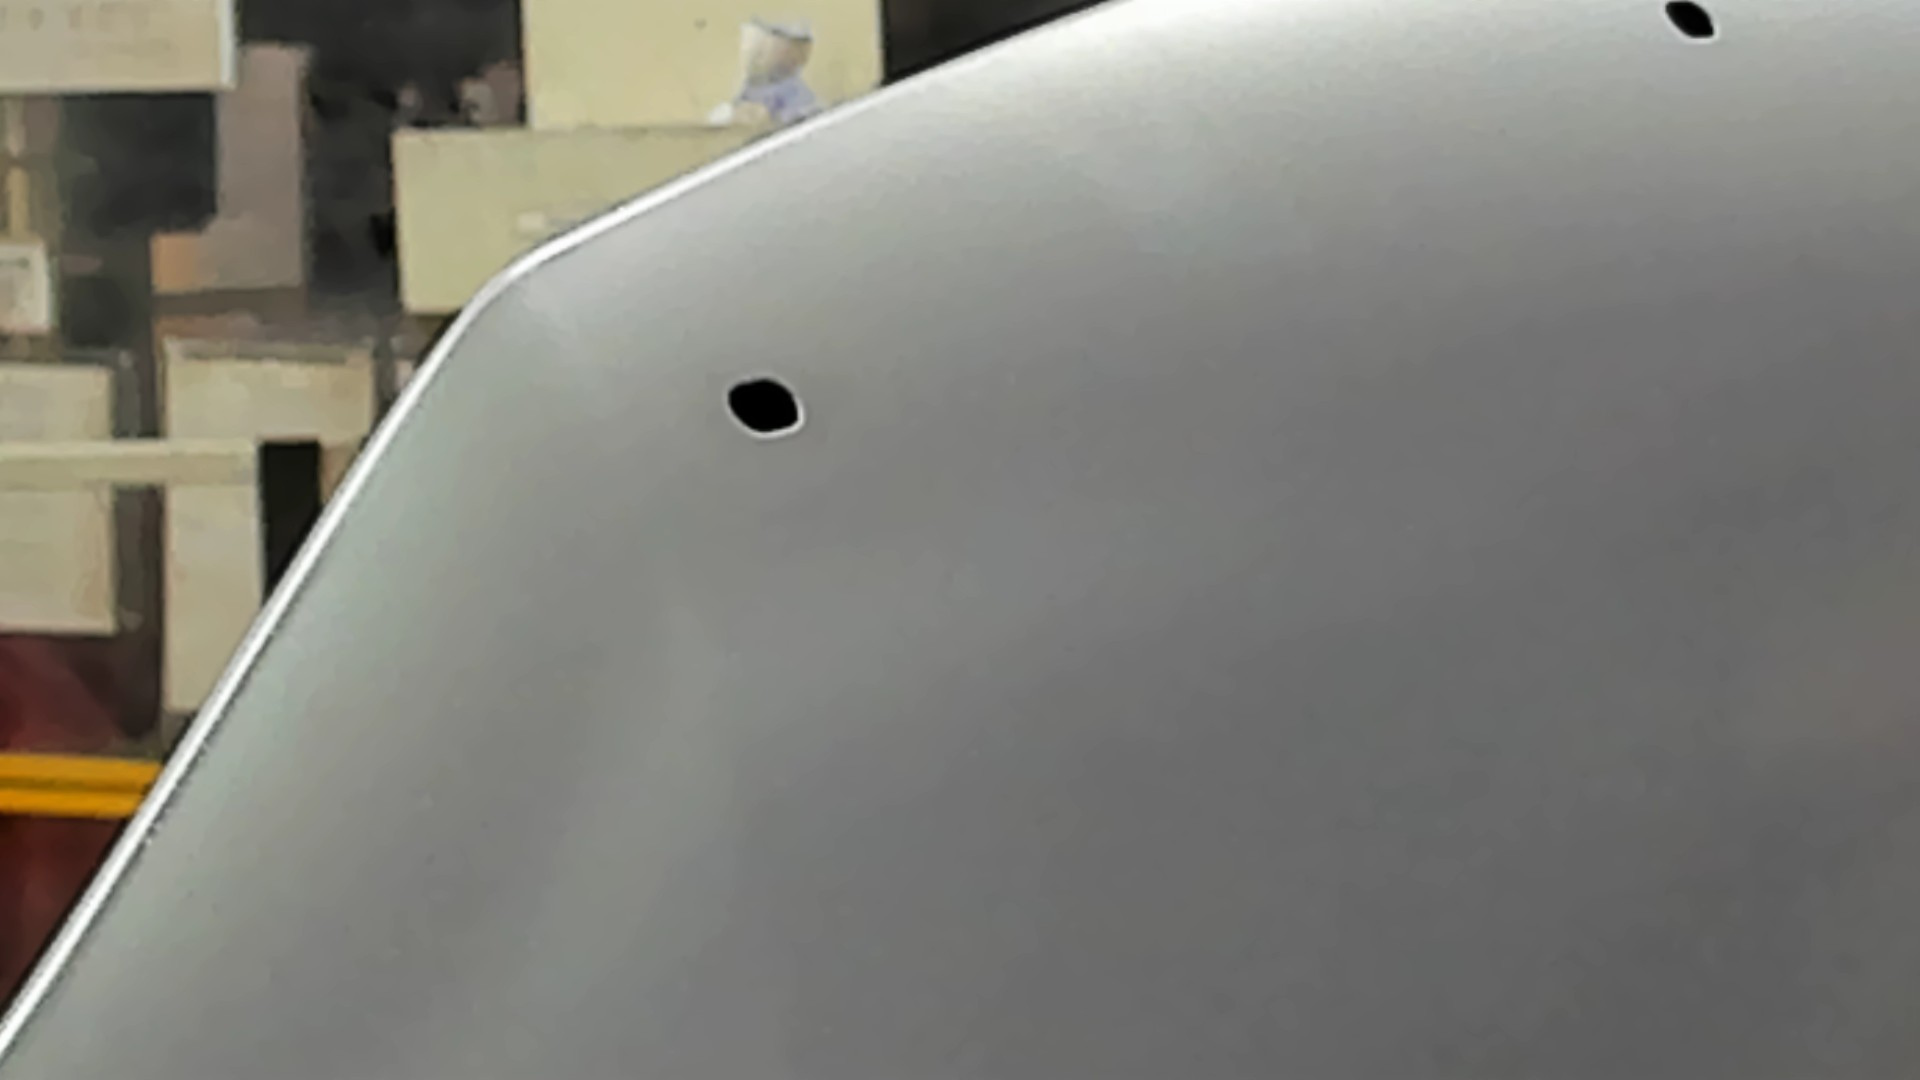amorfo: (717, 372, 814, 440), (1663, 1, 1725, 47)
